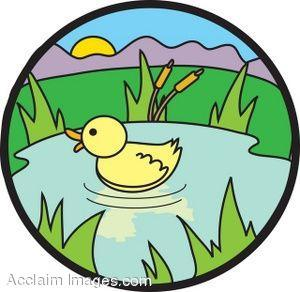bird: (64, 113, 189, 191)
